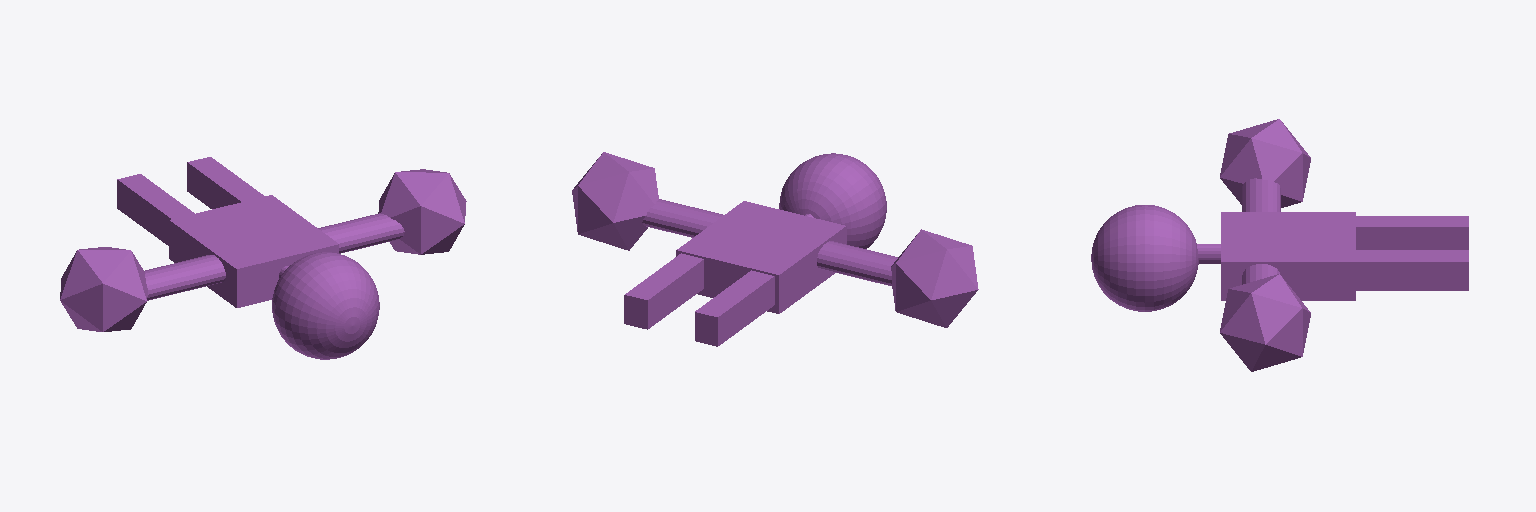
The model's file is tinker.obj.
3 views of the same model, side by side, from view 1: azimuth 30°, elevation 25°; view 2: azimuth 150°, elevation 25°; view 3: azimuth 270°, elevation 25° (orthographic).
Visible parts, largest first — view 1: obj_0; view 2: obj_0; view 3: obj_0.
Boxes of the visible parts, x1=… form: obj_0: x1=60, y1=157, x2=466, y2=359; obj_0: x1=572, y1=152, x2=978, y2=346; obj_0: x1=1091, y1=119, x2=1468, y2=371.
Bounding box in the file's own units: 87.02 × 20.49 × 70.